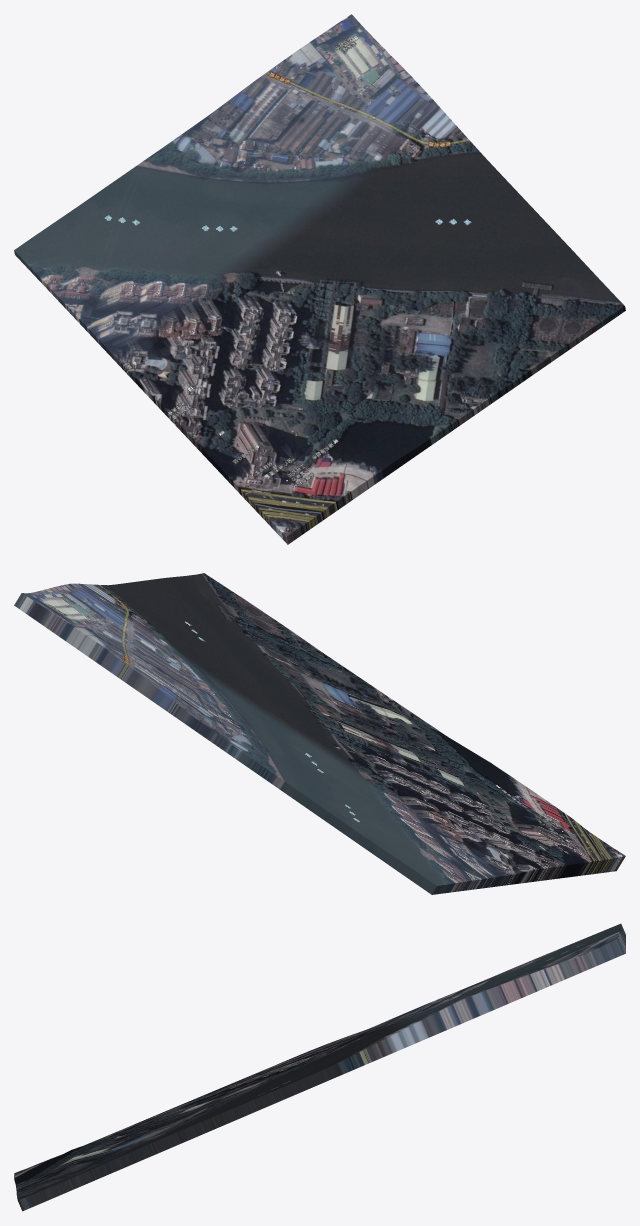
3 views of the same model, one above another, from view 1: azimuth 30°, elevation 25°; view 2: azimuth 150°, elevation 25°; view 3: azimuth 270°, elevation 25° (orthographic). The views are drawn at different scales.
Visible parts, largest first — view 1: 0_6_3; view 2: 0_6_3; view 3: 0_6_3.
Part boxes in pixels (x1,y1,x2,y2): 0_6_3: (14, 14, 625, 544); 0_6_3: (14, 573, 625, 894); 0_6_3: (14, 923, 625, 1211).
Size of the model in its own units: 596 by 441 by 549.
Materials: 1 (1 with a texture image).
